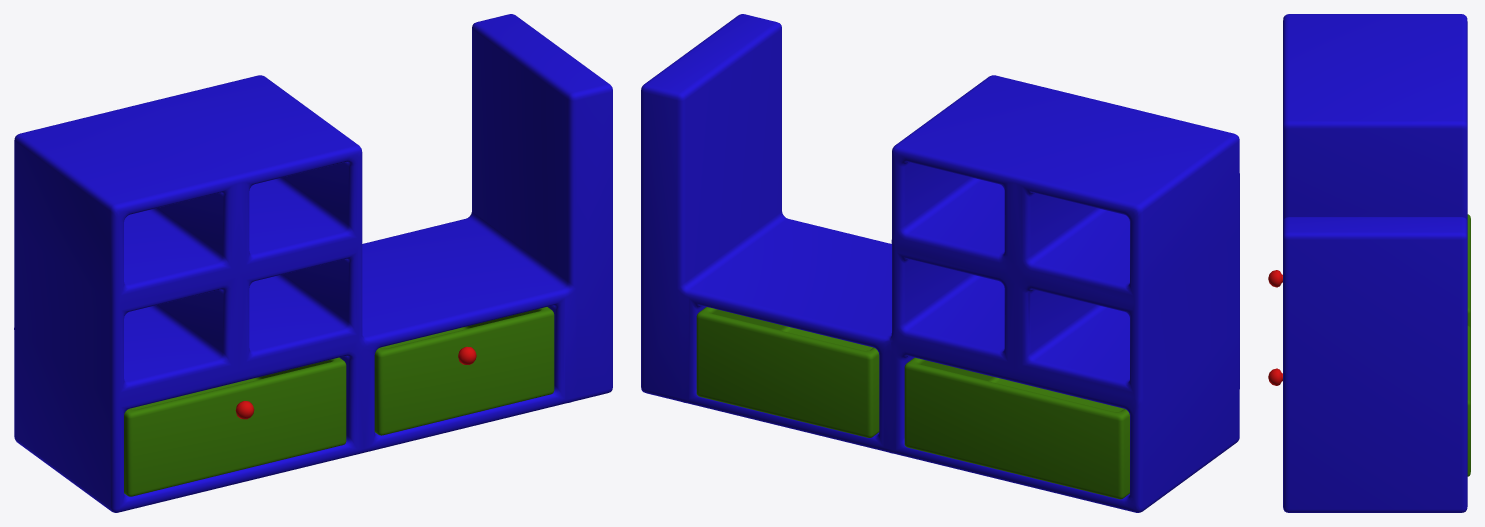
File: Dresser_Box.fbx
3 views of the same model, side by side, from view 1: azimuth 30°, elevation 25°; view 2: azimuth 150°, elevation 25°; view 3: azimuth 270°, elevation 25° (orthographic). The views are drawn at different scales.
Parts seen in each view (by area): view 1: Dresser_Box_1; view 2: Dresser_Box_1; view 3: Dresser_Box_1.
Part boxes in pixels (<box>): Dresser_Box_1: <box>14,14,612,512</box>; Dresser_Box_1: <box>641,14,1239,512</box>; Dresser_Box_1: <box>1268,14,1470,512</box>.
Bounding box in the file's own units: 59.55 × 34.99 × 22.94.
